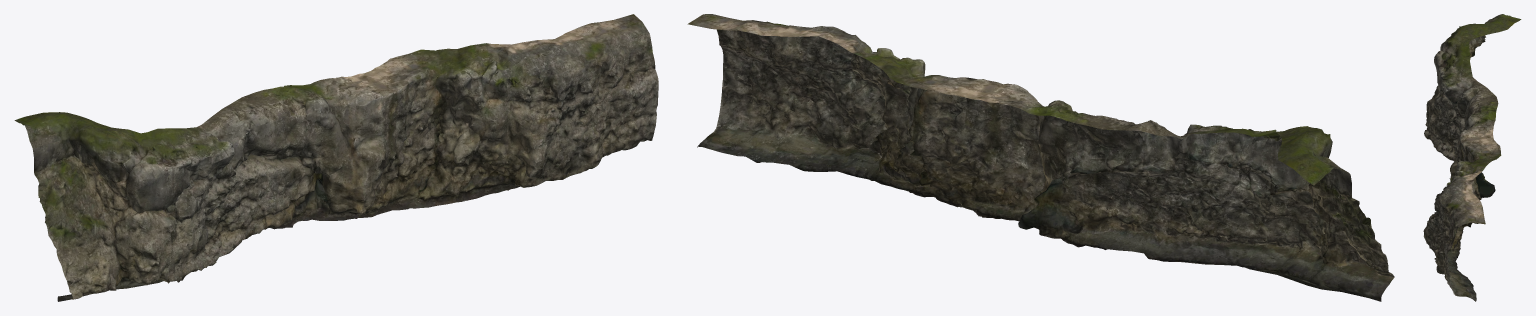
The model's file is coastal_cliff_02.glb.
3 renders of one model, left to right at view 1: azimuth 30°, elevation 25°; view 2: azimuth 150°, elevation 25°; view 3: azimuth 270°, elevation 25°, orthographic. The views are drawn at different scales.
Parts seen in each view (by area): view 1: coastal_cliff_02_LOD0; view 2: coastal_cliff_02_LOD0; view 3: coastal_cliff_02_LOD0.
Boxes of the visible parts, x1,y1,x2,y2 form: coastal_cliff_02_LOD0: (14,14,658,301); coastal_cliff_02_LOD0: (687,14,1394,301); coastal_cliff_02_LOD0: (1423,14,1521,301).
Bounding box in the file's own units: 40.93 × 10.05 × 8.65.
Materials: 1 (1 with a texture image).
